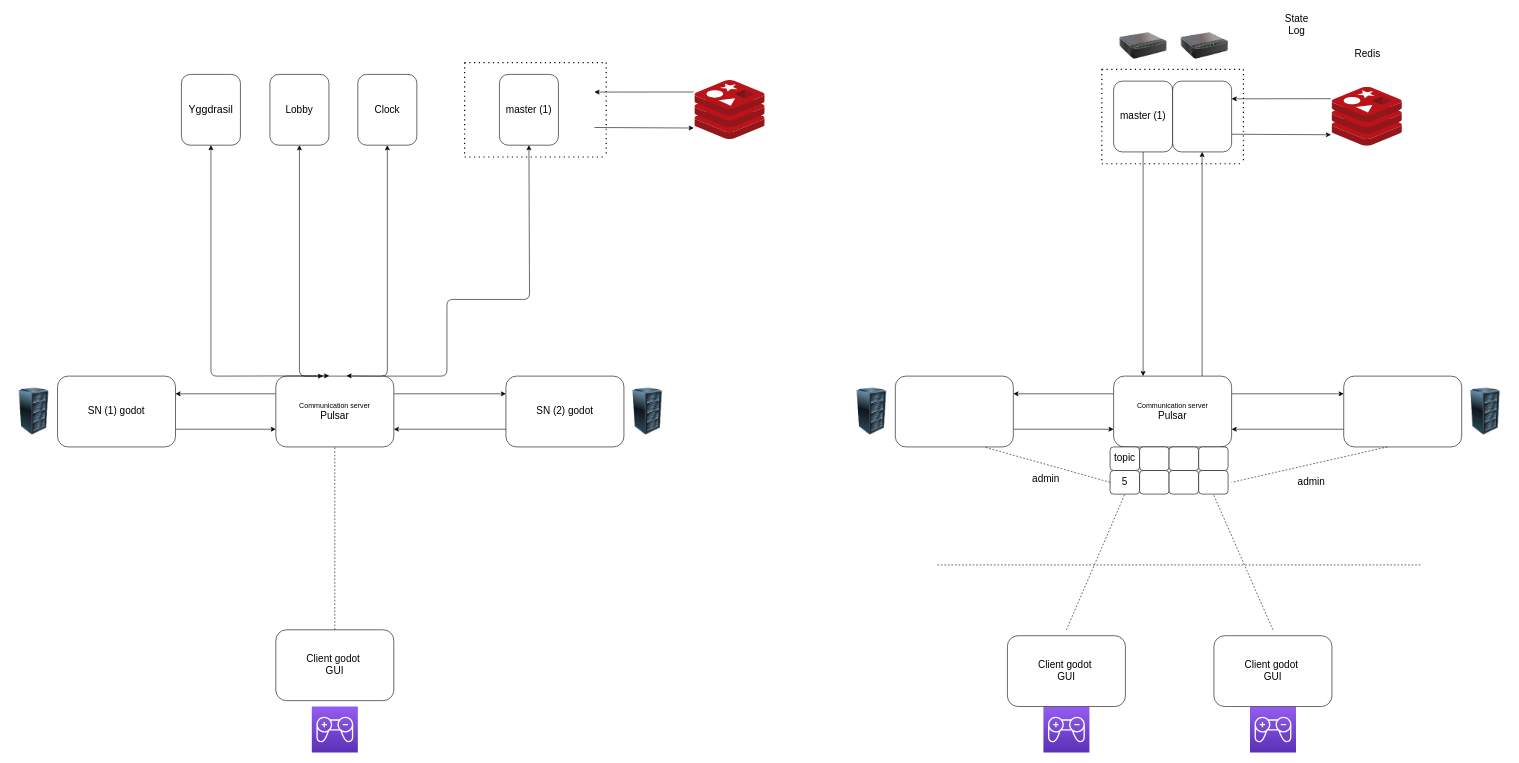
This 1519x763 diagram has some shape labels left out. The box of each missing label's shape, as (x1, y1, x2, y2) in pixels:
master (2): (1172, 81, 1232, 152)
SN (1): (895, 376, 1013, 447)
SN (2): (1343, 376, 1462, 447)
